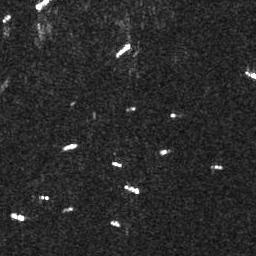ship: (116, 42, 130, 59), (32, 1, 49, 11), (123, 184, 140, 194), (10, 212, 25, 222), (63, 142, 77, 151), (110, 159, 122, 168), (110, 219, 120, 229), (209, 164, 223, 171), (246, 70, 256, 79), (3, 13, 11, 24), (38, 195, 50, 200), (160, 147, 167, 155)
